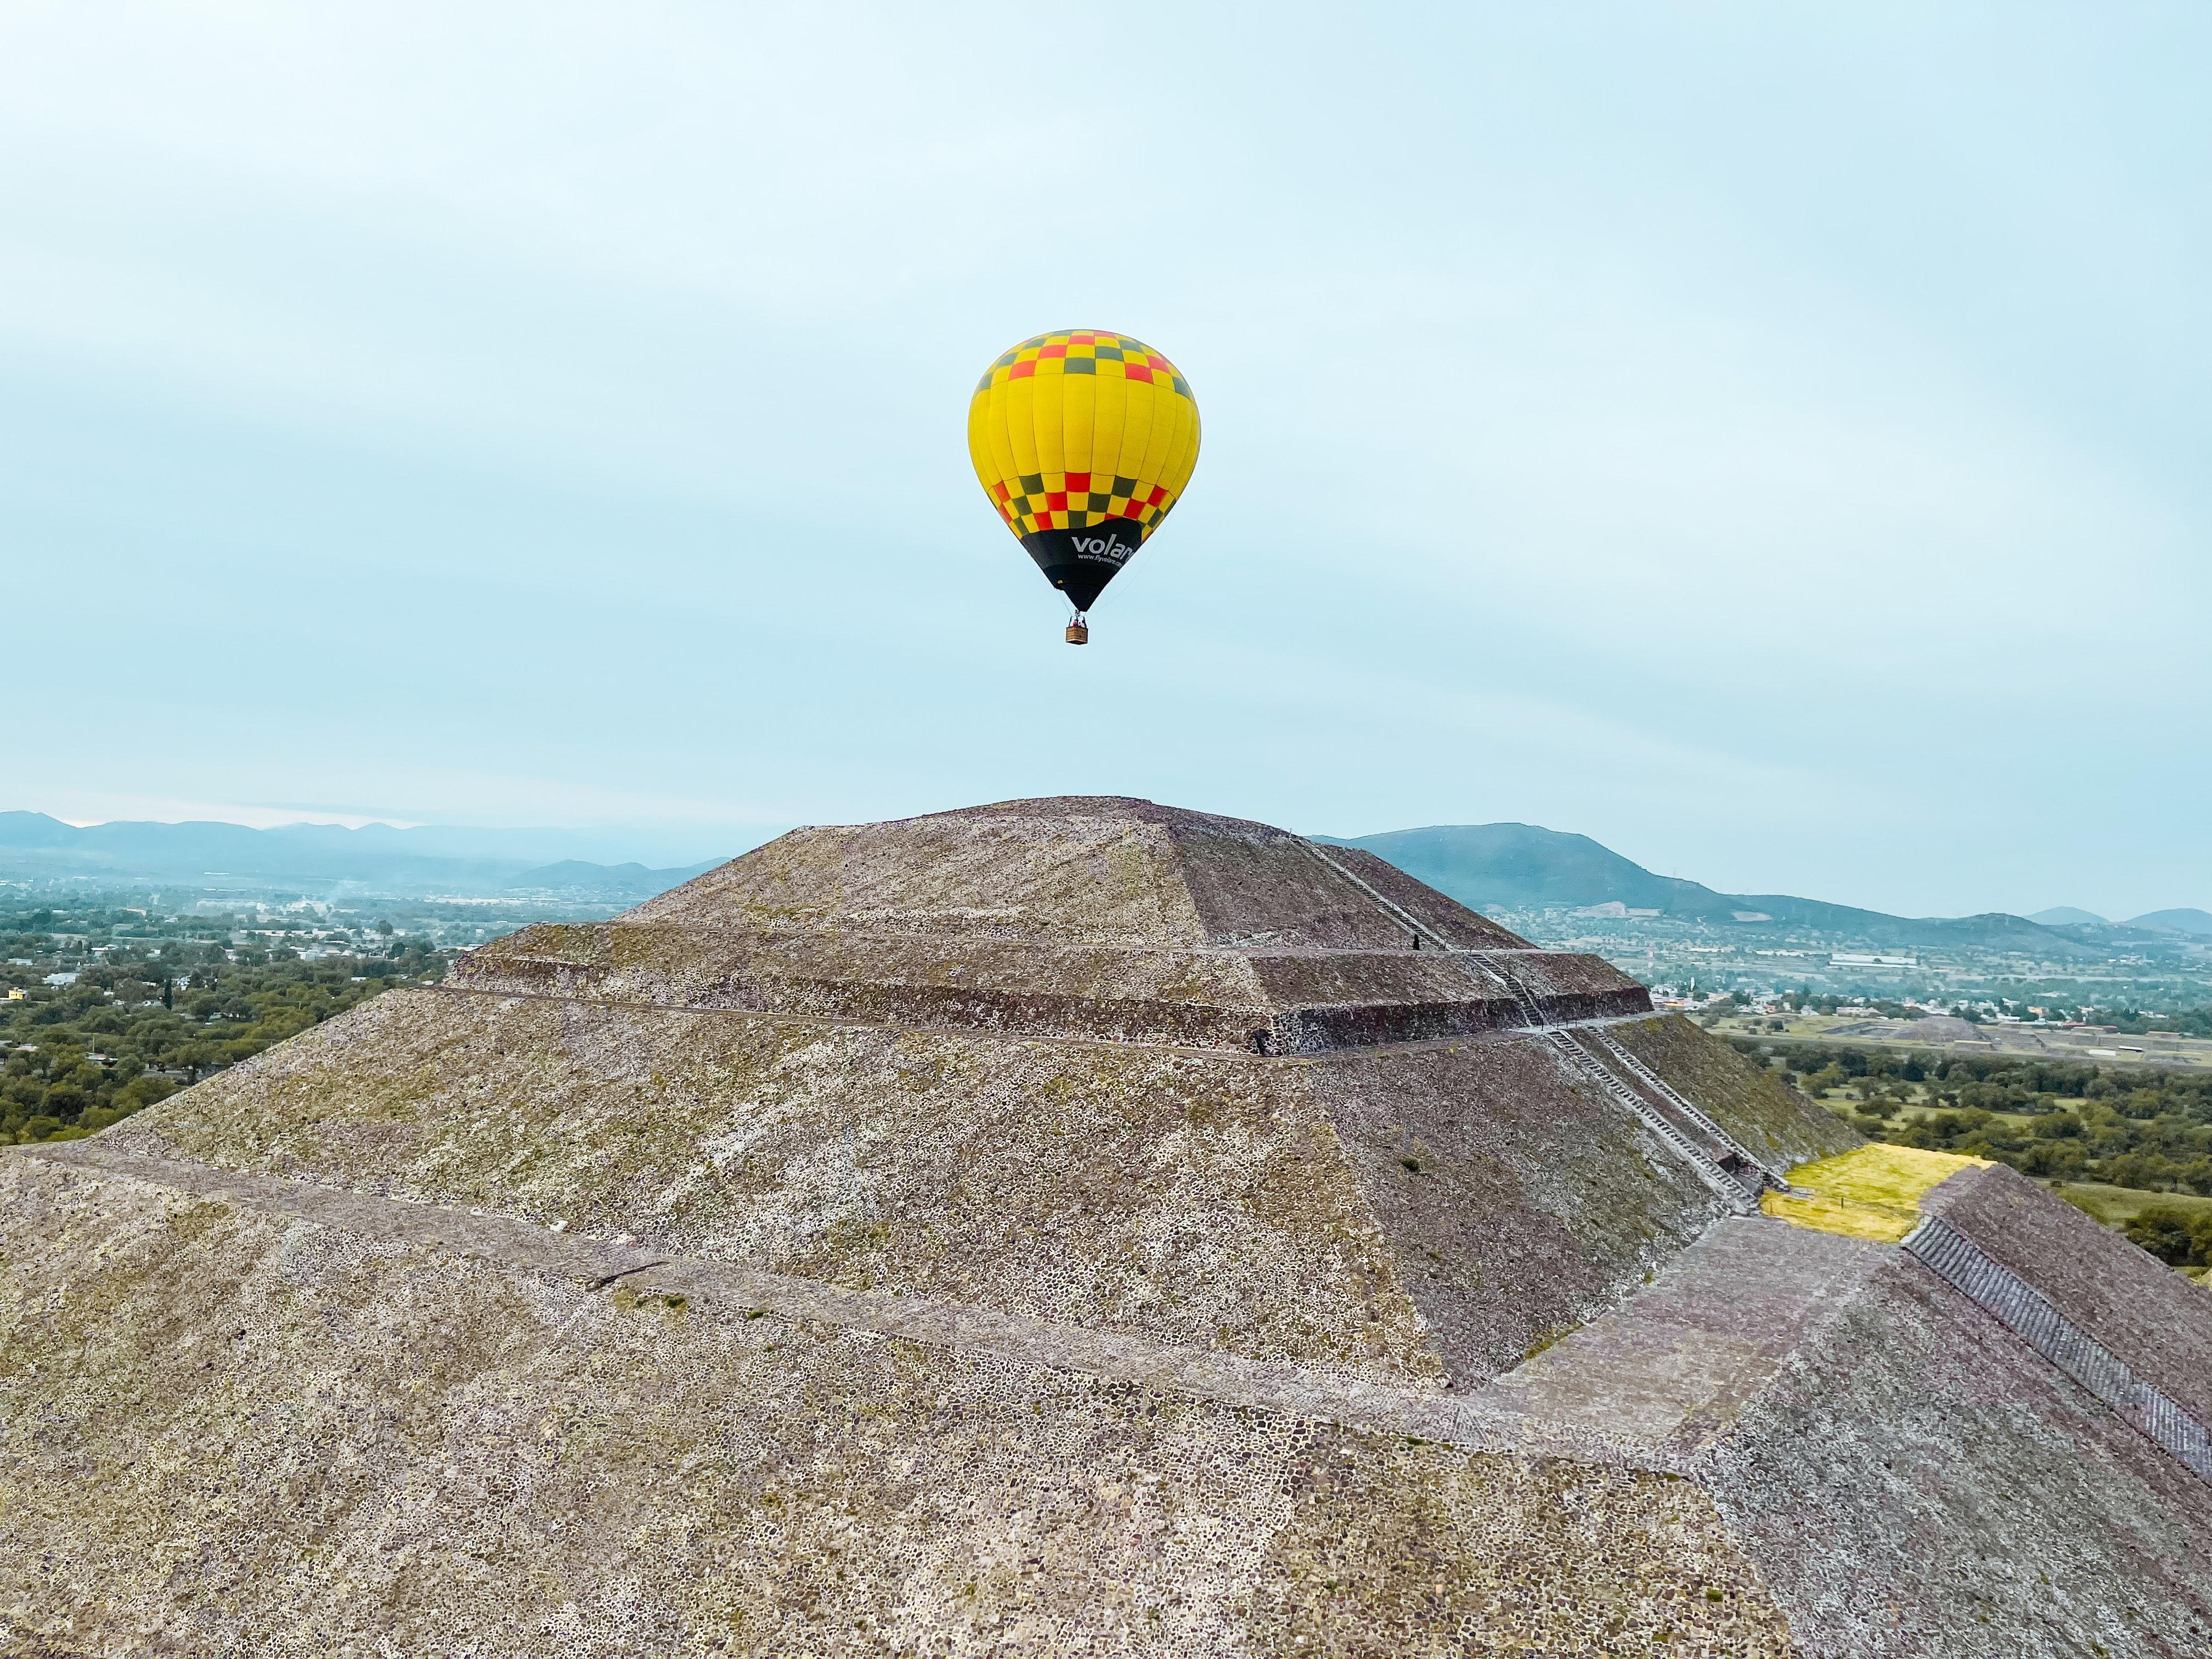hot air ballon: (967, 329, 1202, 648)
